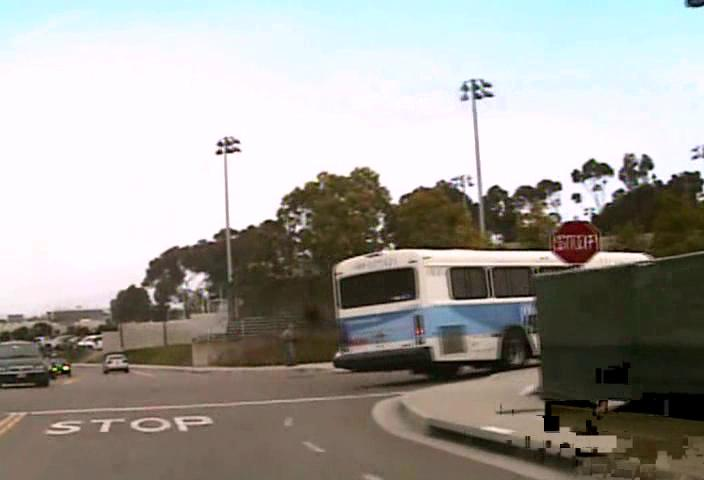stop: (551, 219, 600, 264)
